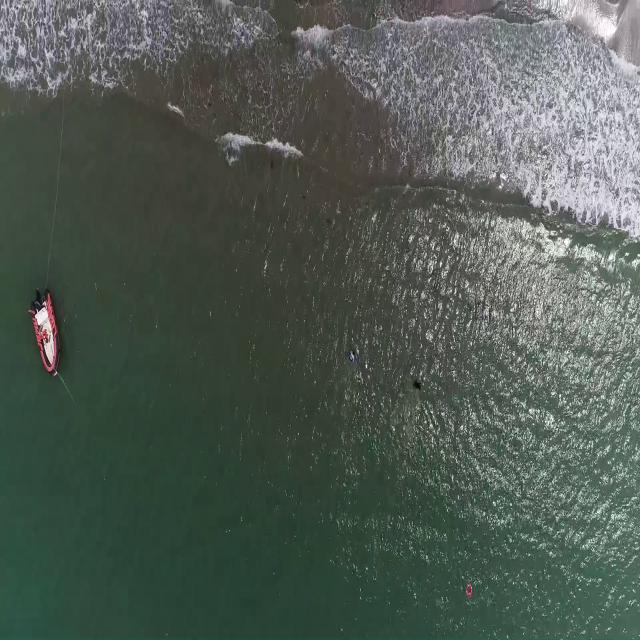boat: (30, 289, 60, 377)
life_buoy: (465, 582, 474, 598)
person: (348, 344, 359, 364), (412, 373, 423, 392)
